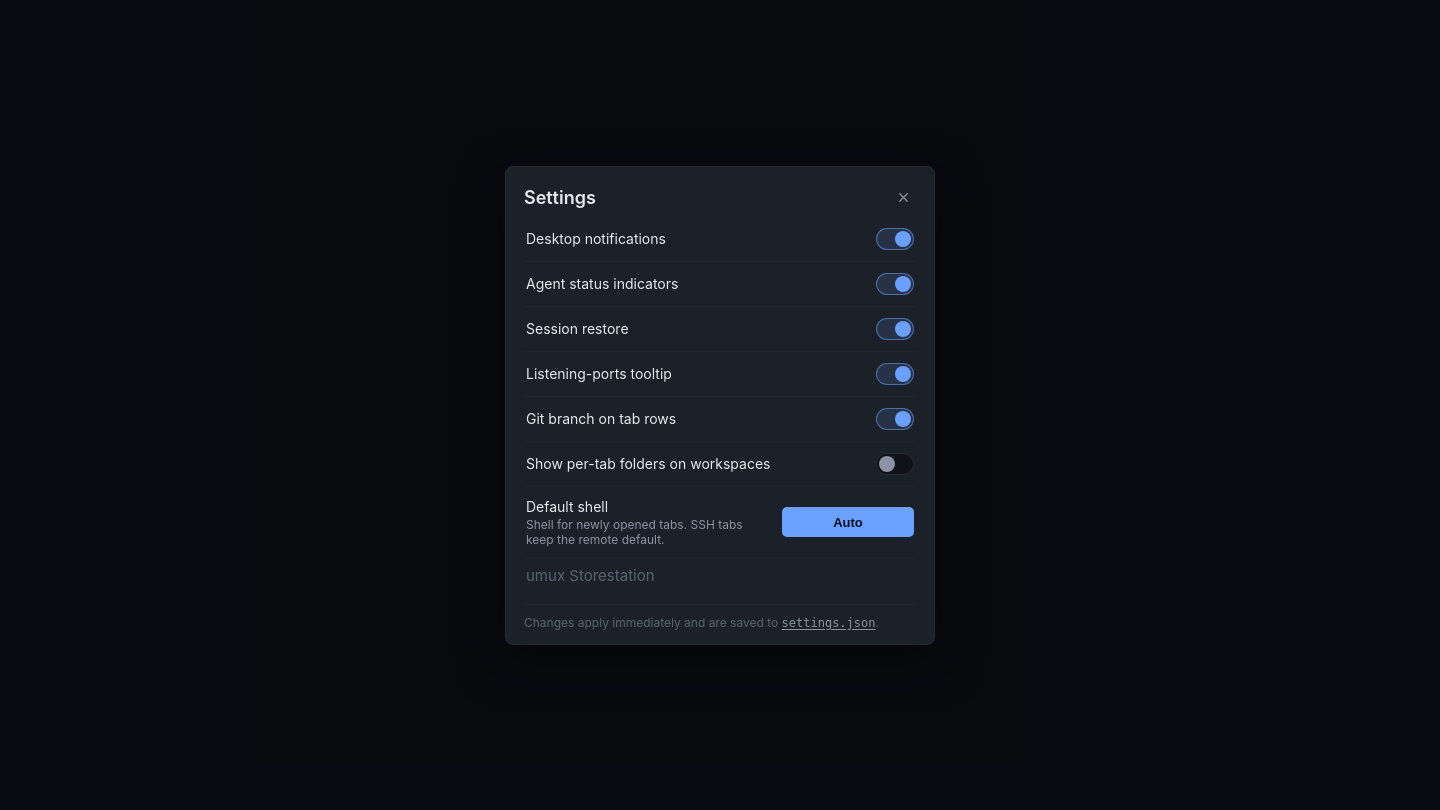
Test: SettingsDialog factory reset (#74) › opens a dedicated Storestation view with the daemon toggle defaulting OFF
This screenshot has width=1440, height=810.
Click the button with test id "storestation-open" at (590, 575), box [524,558,916,592]
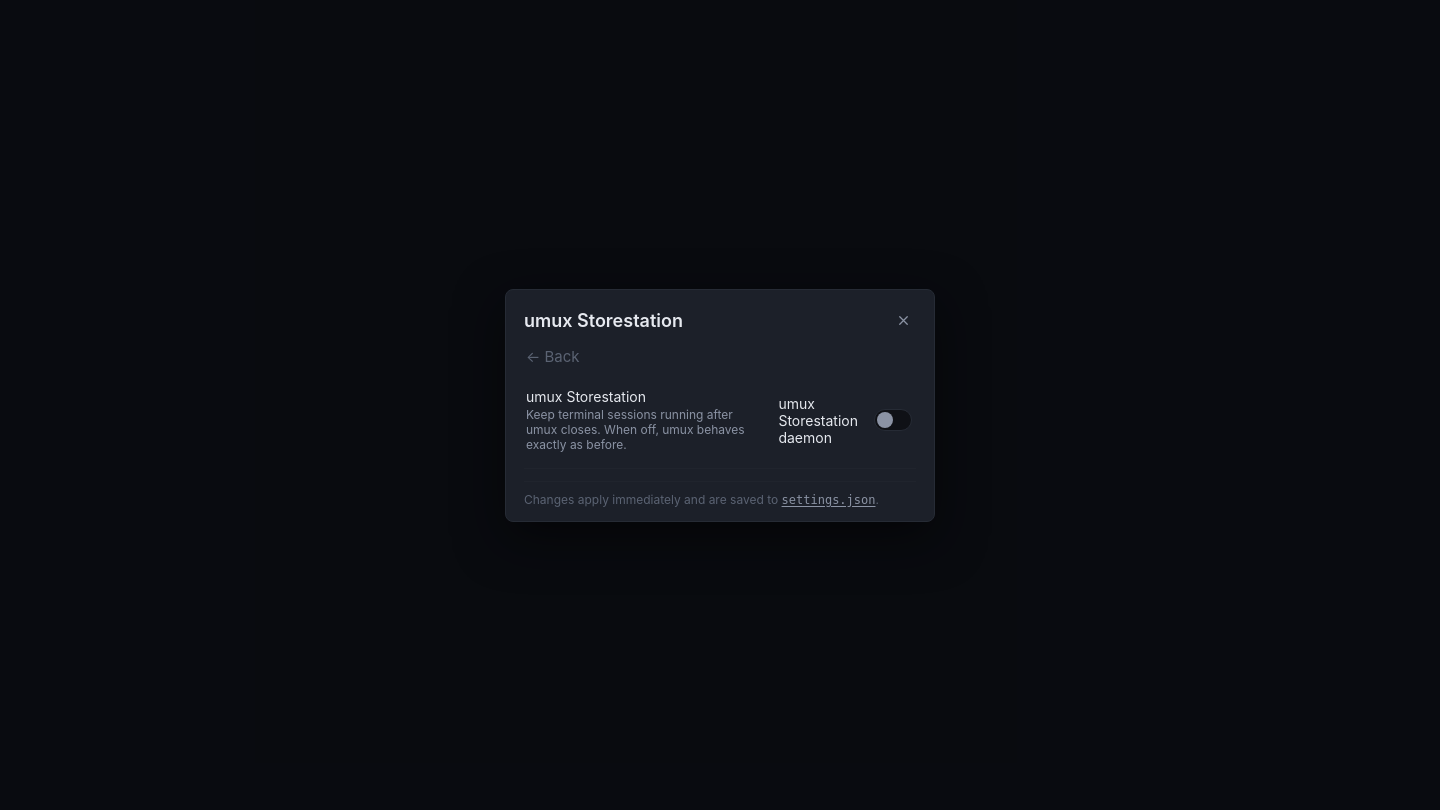
Expected: the element with class "settings-footnote" is shown, [524,480,916,506]
Expected: the button with test id "settings-back" is shown, [524,340,916,372]
Expected: the switch with test id "toggle-notifications" is gone
